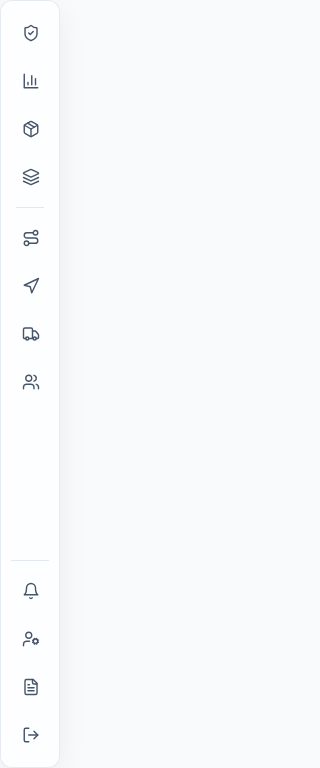
Scenario: AdminSidebar Hover-Expand & Retract (Quick Task) › expands on hover (mouseEnter) displaying expanded width and icon labels
Hover over the element with test id "admin-sidebar" at (30, 384), box top-left (0, 0), bottom-right (60, 767)
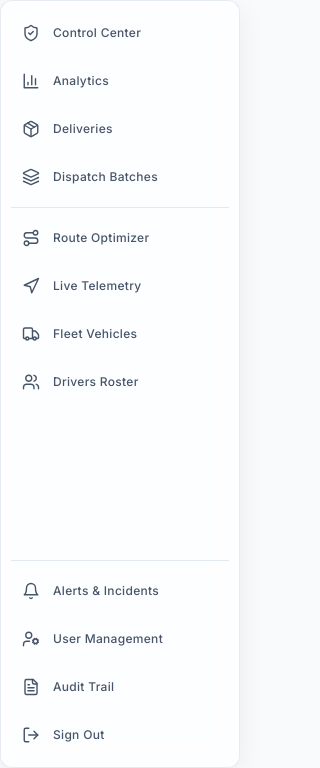
Expected: the element with test id "admin-sidebar" is expanded
Expected: the text "Route Optimizer" is shown, top-left (53, 230), bottom-right (149, 246)
Expected: the text with class "opacity-100" reads "Route Optimizer", top-left (53, 230), bottom-right (149, 245)
